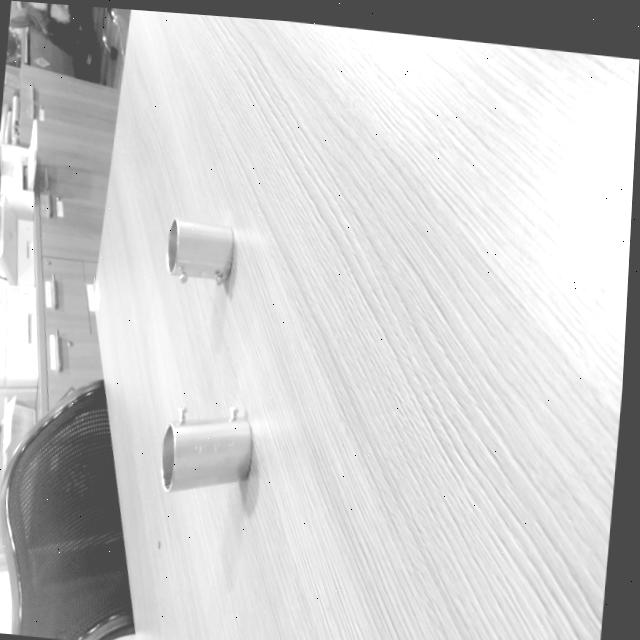Co_Lon: (156, 399, 253, 491)
Co_Nho: (161, 216, 237, 289)
